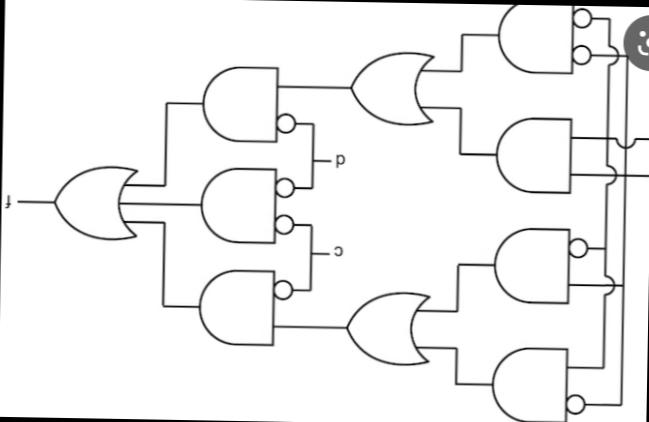and: (482, 217, 577, 308), (191, 156, 282, 250), (190, 264, 284, 352), (198, 55, 284, 151), (490, 108, 576, 199), (486, 335, 575, 422)
or: (48, 145, 138, 253), (346, 43, 434, 140), (342, 281, 432, 374)
